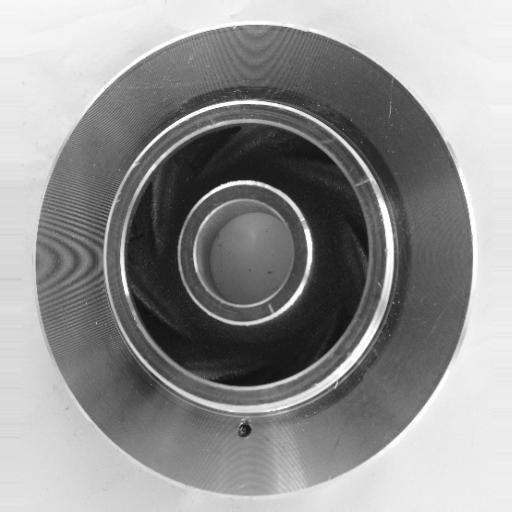pit: (227, 410, 260, 446)
unpolished_casting: (34, 21, 476, 500)
